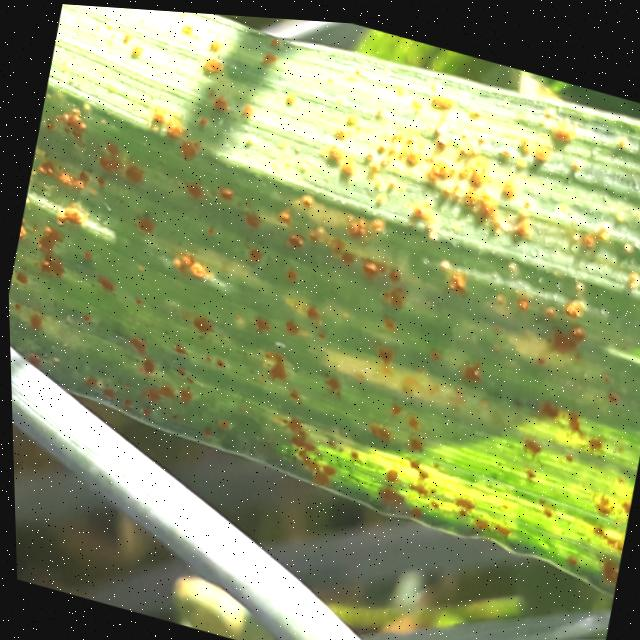orang_rust: (0, 0, 640, 606)
